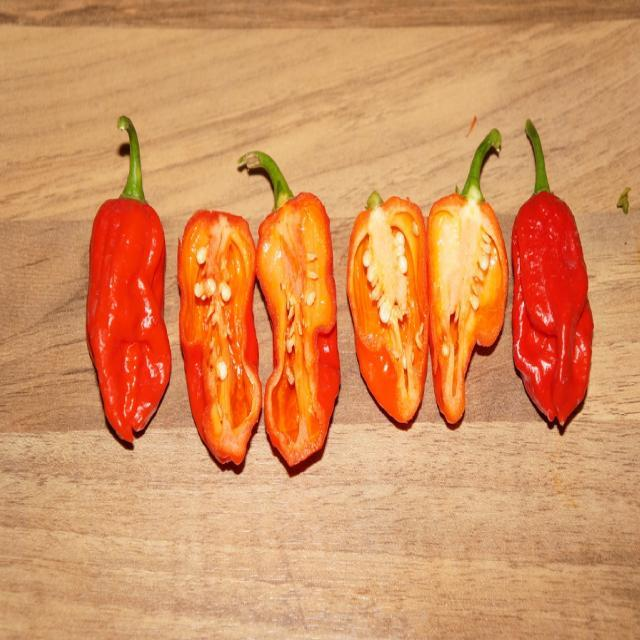Bell pepper: (236, 153, 339, 467), (85, 113, 170, 446), (514, 119, 596, 426), (425, 126, 509, 422), (176, 210, 261, 468), (347, 190, 429, 430)
